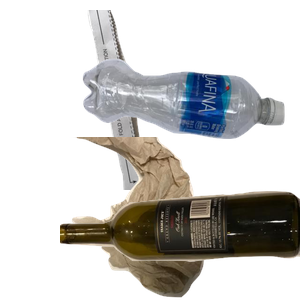glass: (60, 189, 300, 300)
paper: (85, 10, 224, 190)
plastic: (80, 56, 300, 187)
trash: (66, 137, 263, 300)
